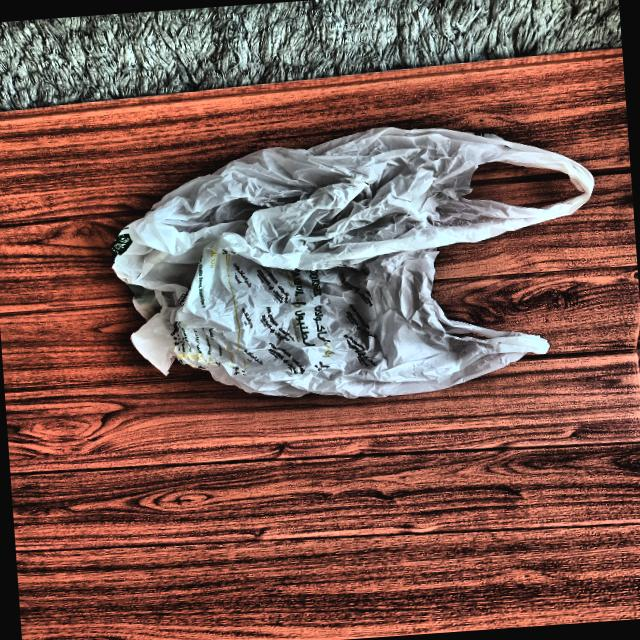plastic bag: (98, 109, 608, 421)
